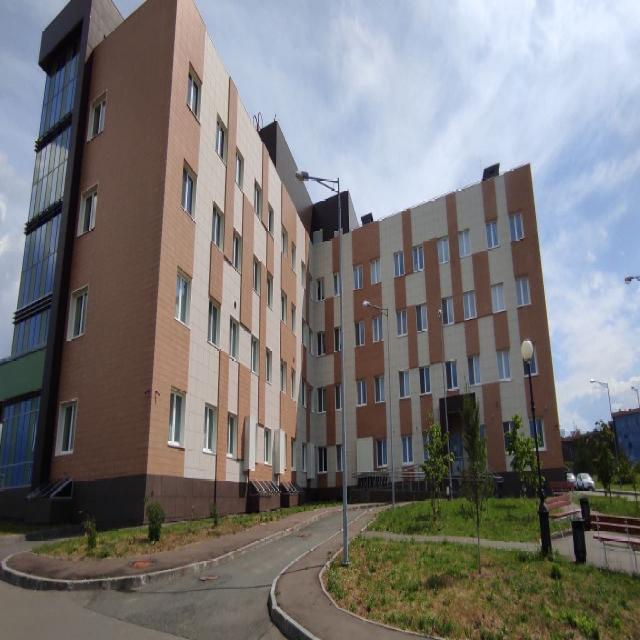Building: (0, 0, 569, 526)
